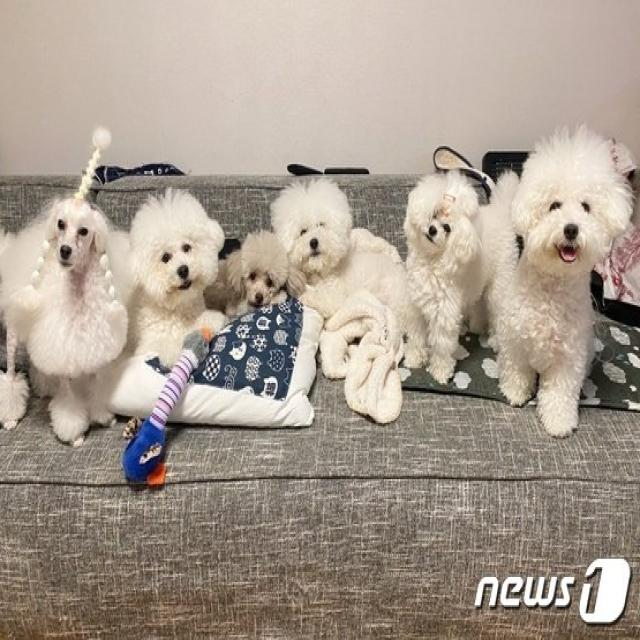dogs: (518, 146, 636, 399), (1, 184, 137, 392), (270, 171, 406, 326), (411, 165, 512, 369), (133, 173, 227, 379)
